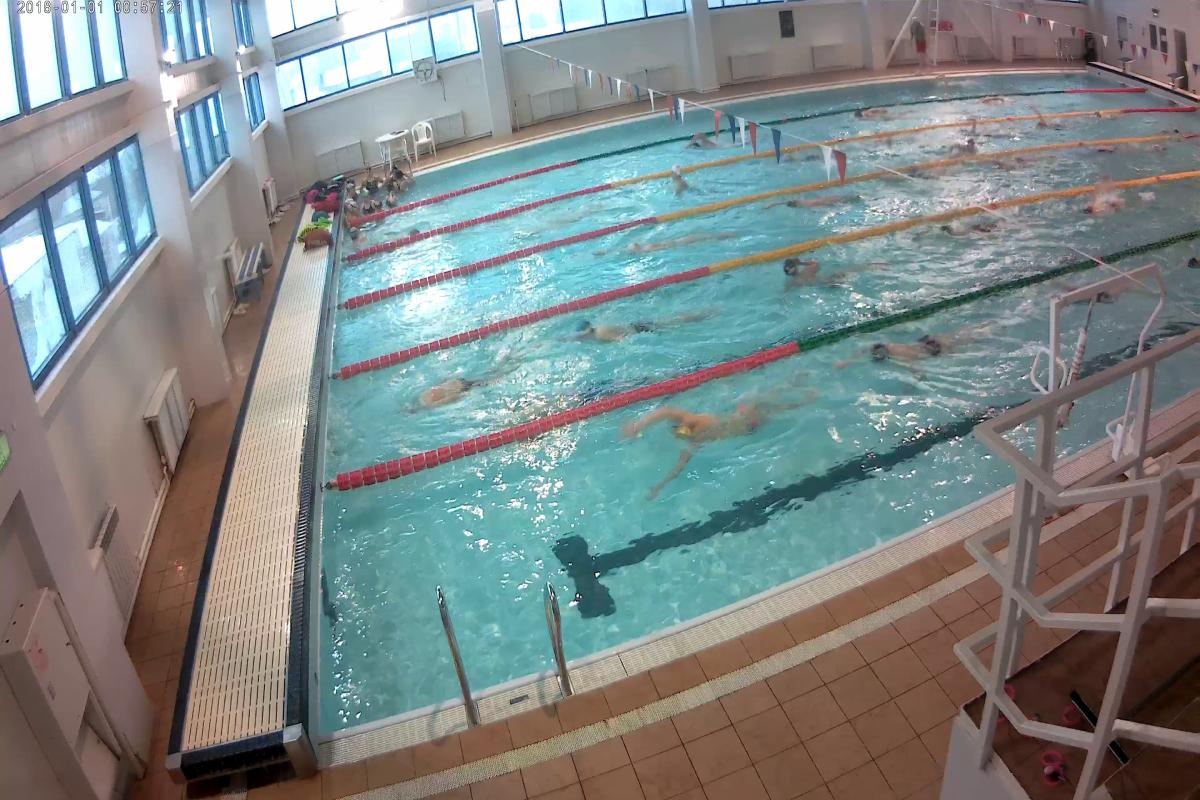swimmer: (618, 378, 815, 477), (848, 320, 989, 386), (398, 361, 517, 418), (574, 302, 716, 349), (764, 252, 874, 308), (625, 222, 733, 261), (768, 187, 861, 216), (937, 213, 1018, 246), (1075, 193, 1144, 218), (653, 164, 690, 205), (845, 103, 894, 128), (942, 135, 986, 161), (677, 132, 722, 157)
